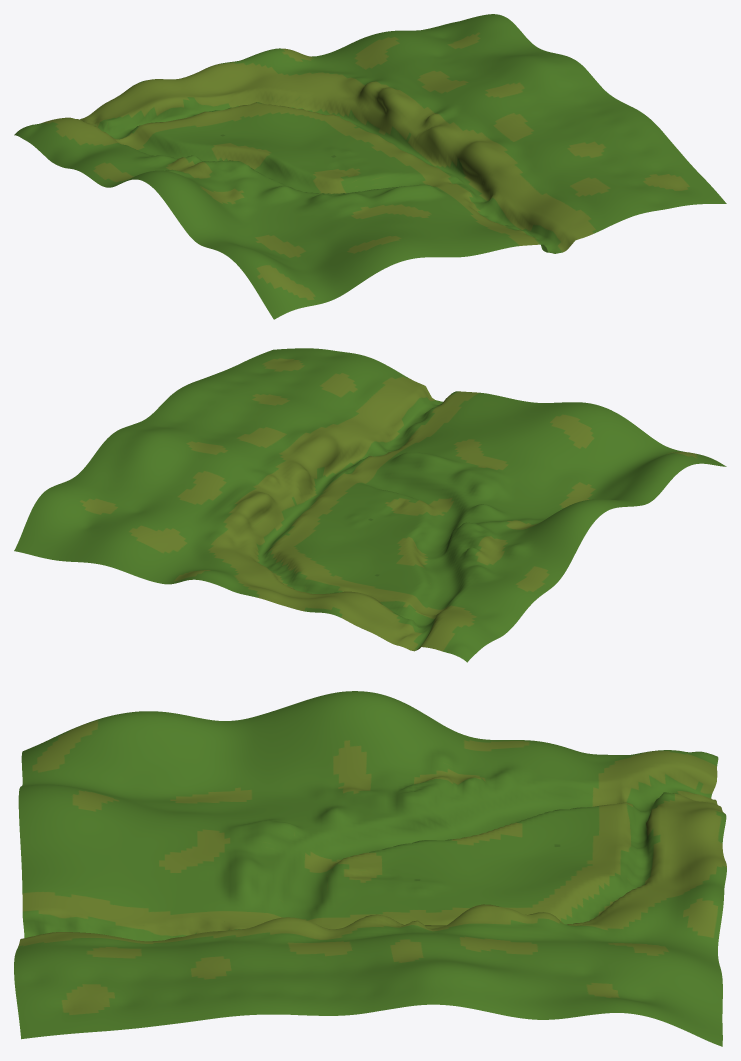
The model's file is Terrain.fbx.
The picture shows the model from 3 angles, top to bottom: view 1: azimuth 30°, elevation 25°; view 2: azimuth 150°, elevation 25°; view 3: azimuth 270°, elevation 25°; orthographic projection. The views are drawn at different scales.
Parts seen in each view (by area): view 1: Plane; view 2: Plane; view 3: Plane.
Boxes of the visible parts, left/top/right/bottom form: Plane: left=14, top=14, right=726, bottom=319; Plane: left=14, top=348, right=726, bottom=662; Plane: left=14, top=691, right=726, bottom=1046.
Bounding box in the file's own units: 5013 × 613 × 5009.
Materials: 1 (1 with a texture image).
